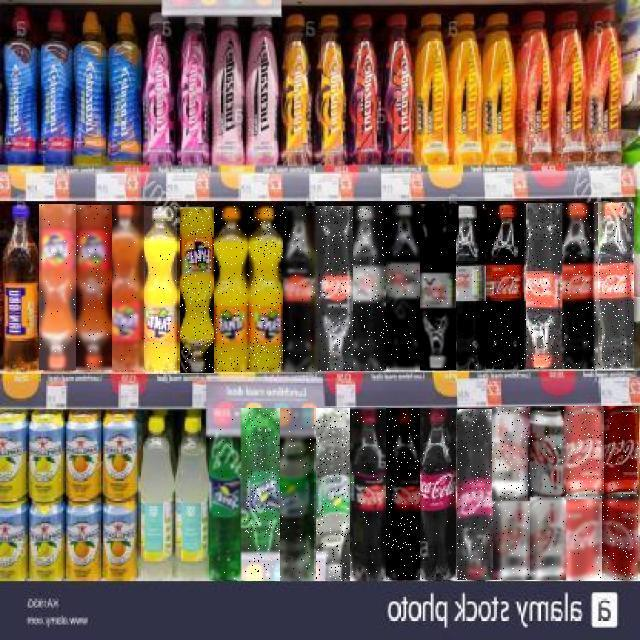Drinks: (594, 202, 634, 370), (559, 203, 599, 369), (420, 408, 457, 580), (456, 409, 493, 580), (524, 203, 562, 369), (351, 407, 387, 581), (280, 408, 316, 581), (245, 408, 281, 581), (210, 408, 246, 580), (489, 204, 526, 370), (39, 205, 76, 371), (454, 205, 490, 371), (421, 205, 457, 371), (284, 206, 320, 372), (76, 206, 112, 372), (316, 408, 350, 581), (386, 408, 420, 580), (214, 206, 249, 372), (318, 206, 353, 371), (146, 206, 180, 374), (386, 206, 420, 372), (249, 206, 283, 372), (180, 207, 214, 373), (112, 206, 146, 372), (352, 206, 386, 371), (564, 406, 604, 499), (492, 407, 530, 501), (528, 406, 566, 500), (603, 406, 639, 500), (563, 496, 602, 581), (492, 498, 530, 580), (602, 494, 638, 580), (529, 497, 566, 580)
